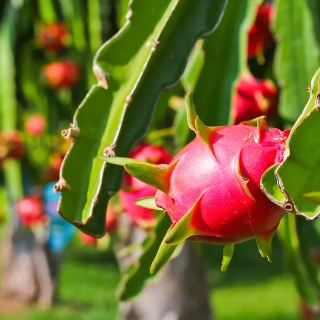thanh_long: (141, 109, 291, 265)
